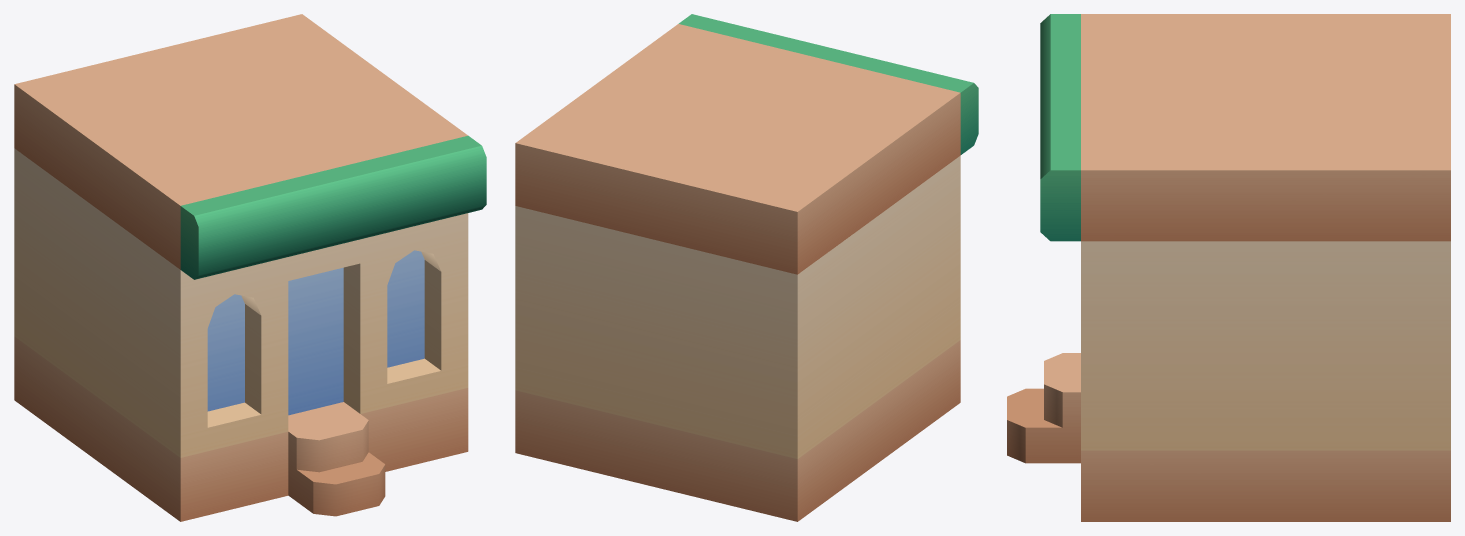
Rendered from house-1.glb.
The picture shows the model from 3 angles, left to right: view 1: azimuth 30°, elevation 25°; view 2: azimuth 150°, elevation 25°; view 3: azimuth 270°, elevation 25°; orthographic projection. The views are drawn at different scales.
Visible parts, largest first — view 1: building_steps_narrow_windows_round, roof_flat_awning_a; view 2: building_steps_narrow_windows_round, roof_flat_awning_a; view 3: building_steps_narrow_windows_round, roof_flat_awning_a.
Boxes of the visible parts, x1,y1,x2,y2 form: building_steps_narrow_windows_round: [14, 148, 468, 521]; roof_flat_awning_a: [14, 14, 486, 279]; building_steps_narrow_windows_round: [515, 155, 960, 521]; roof_flat_awning_a: [515, 14, 978, 274]; building_steps_narrow_windows_round: [1007, 241, 1450, 521]; roof_flat_awning_a: [1040, 14, 1450, 241].
Bounding box in the file's own units: 1 × 1.05 × 1.2.
2 materials, 2 textured.
